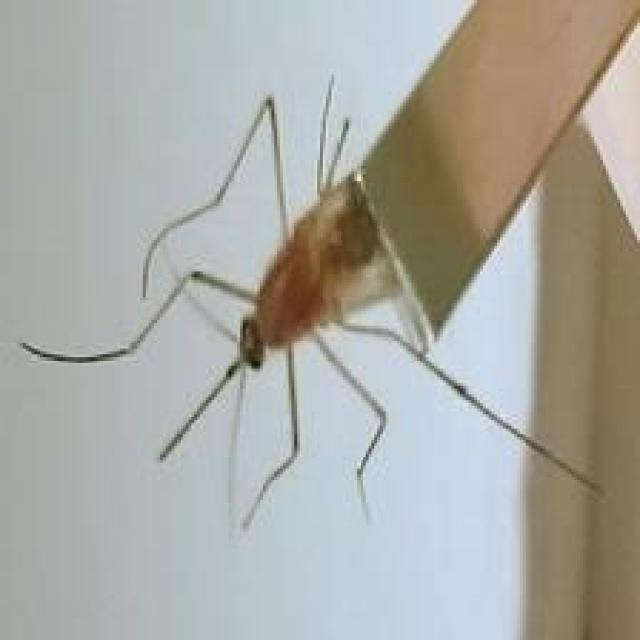Culex: (19, 73, 607, 536)
